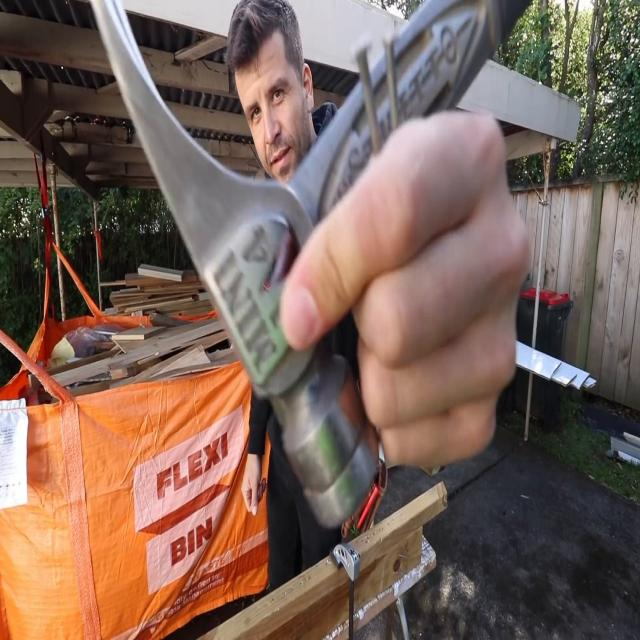hammer: (90, 2, 534, 526)
